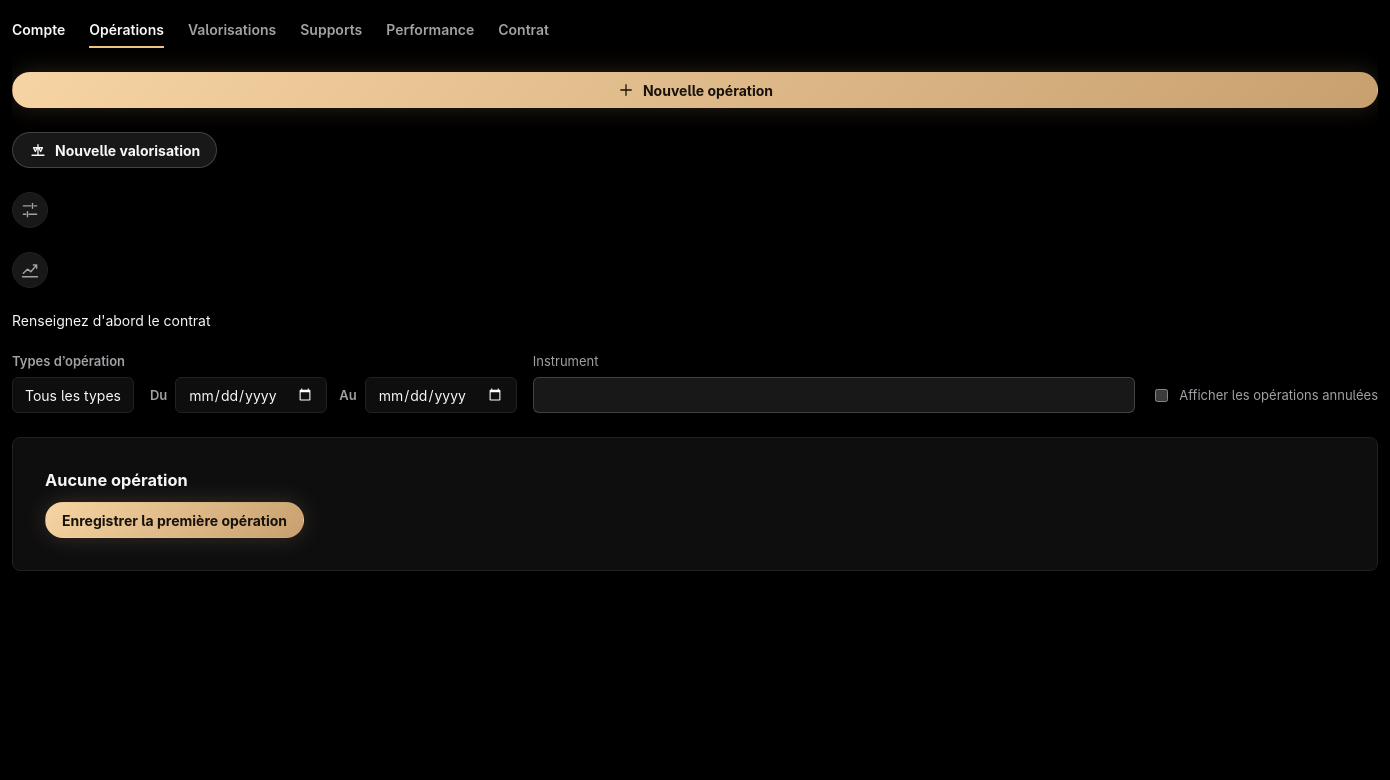
PortfolioAccountPage › opens an insurance portfolio and blocks creation until its contract exists
Expected: the heading "Aucune opération" is shown, [45,470,188,490]
Expected: the button "Nouvelle opération" is disabled, [12,72,1378,108]
Click the link "Contrat": [524, 29] box [498,20,549,38]
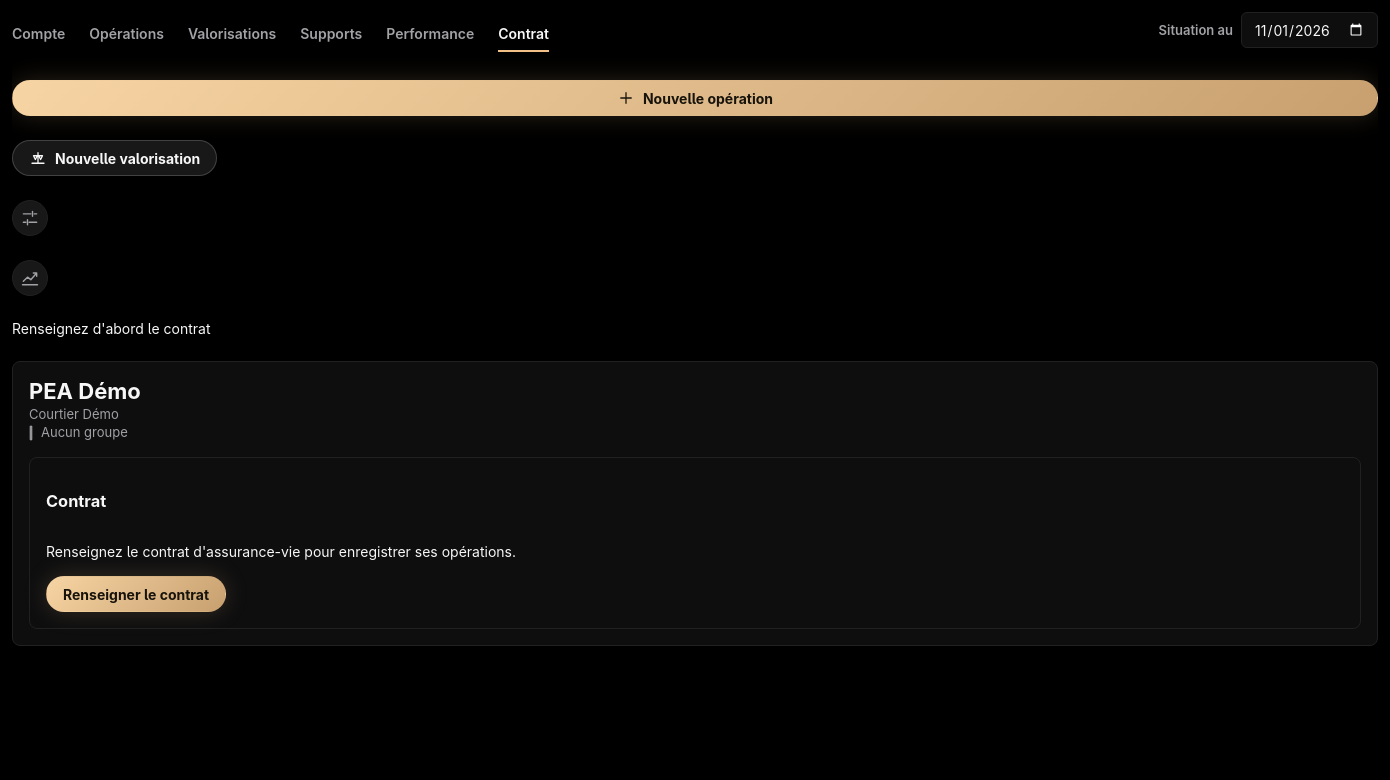
Result: the button "Renseigner le contrat" is shown at [46,576,226,612]
